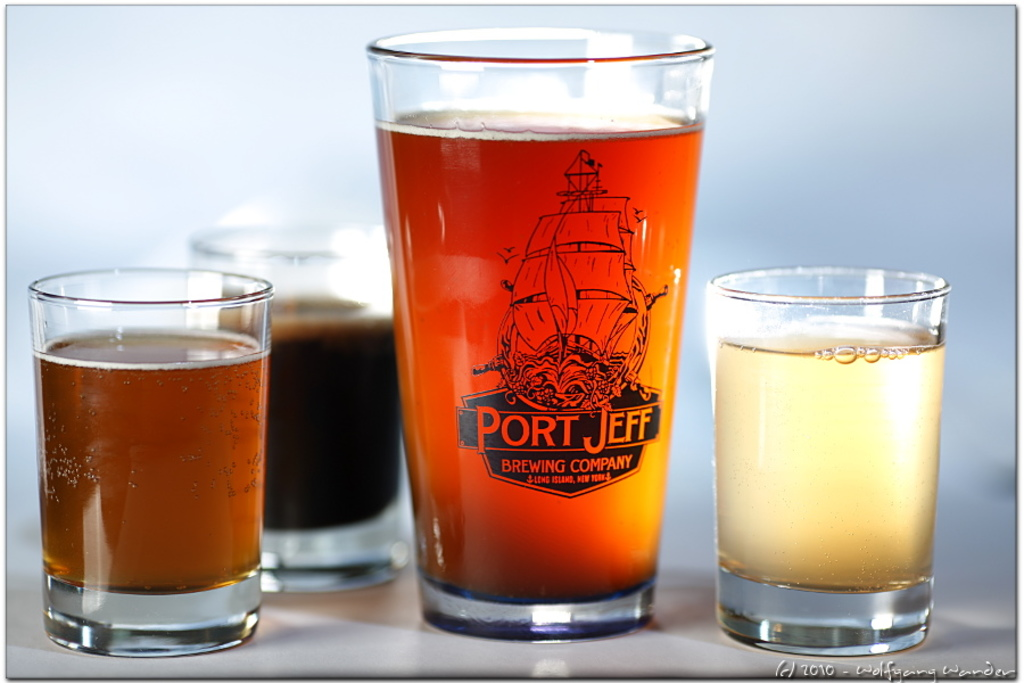Beer: (367, 19, 716, 638), (22, 262, 272, 659), (705, 260, 951, 656), (189, 219, 405, 594)
